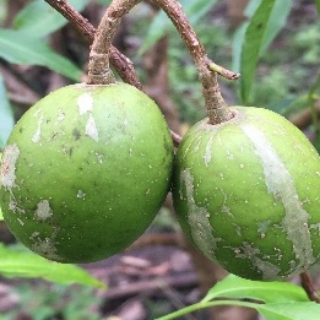coc: (1, 84, 170, 265)
